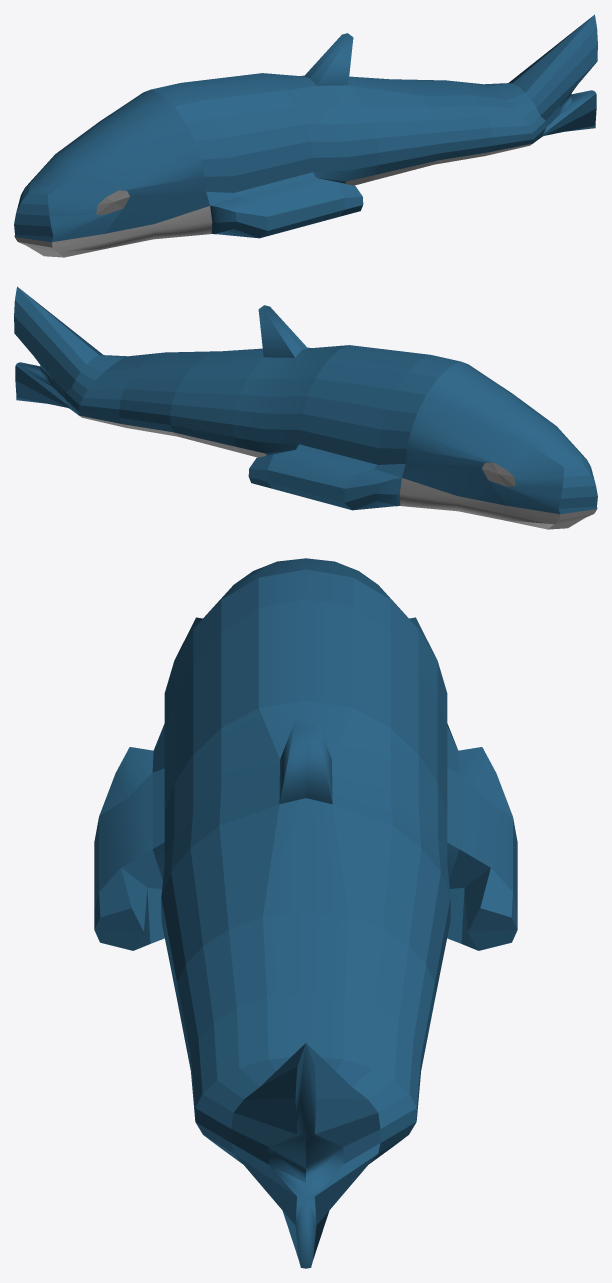
The model's file is SharkPlush.fbx.
3 views of the same model, one above another, from view 1: azimuth 30°, elevation 25°; view 2: azimuth 150°, elevation 25°; view 3: azimuth 270°, elevation 25° (orthographic). The views are drawn at different scales.
Visible parts, largest first — view 1: SharkPlush; view 2: SharkPlush; view 3: SharkPlush.
Boxes of the visible parts, x1,y1,x2,y2 form: SharkPlush: [14, 14, 597, 257]; SharkPlush: [14, 286, 597, 529]; SharkPlush: [94, 558, 517, 1268].
Bounding box in the file's own units: 13.56 × 3.38 × 4.27.
